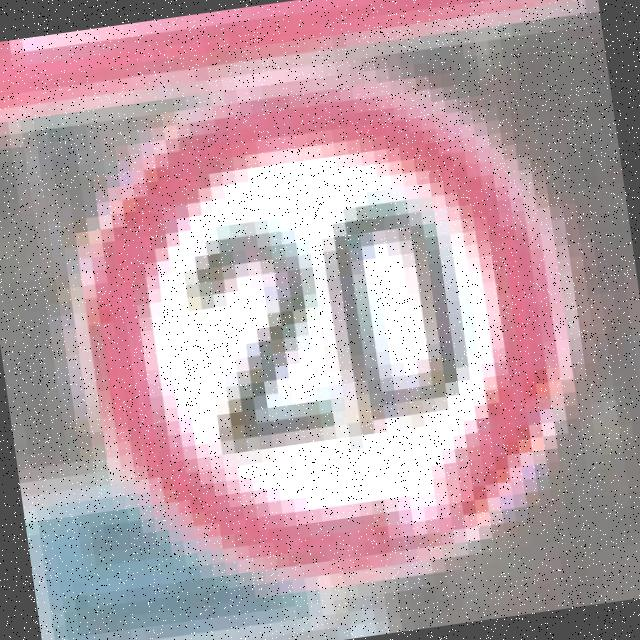Ograniczenie predkosci do 20: (39, 40, 607, 619)
